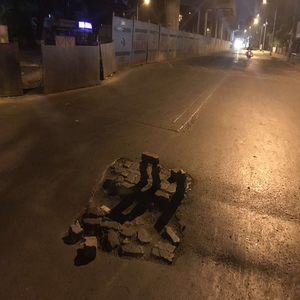pothole: (91, 157, 191, 266)
